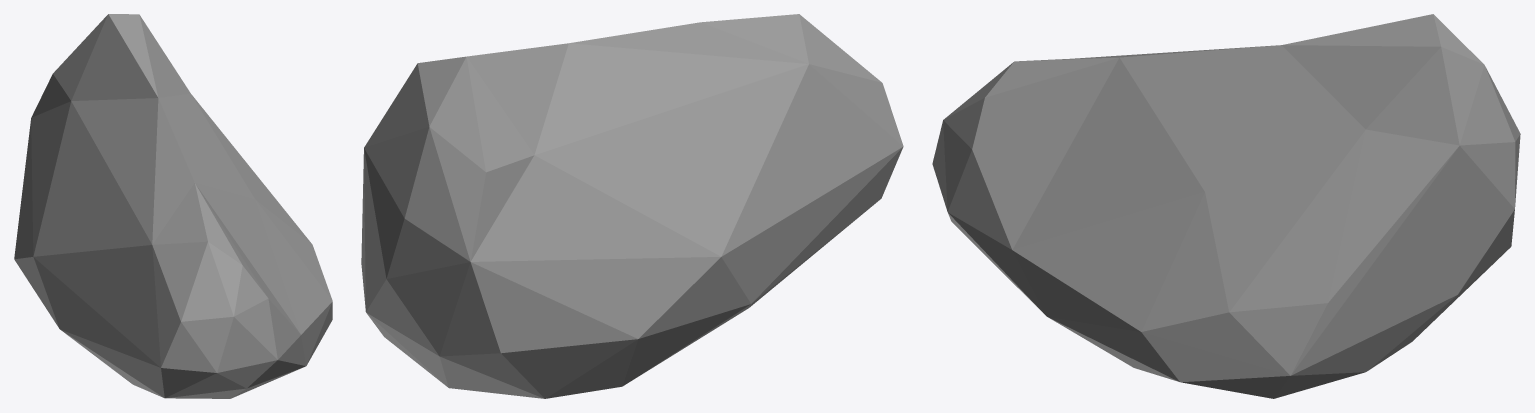
The model's file is Boulder#1.fbx.
3 views of the same model, side by side, from view 1: azimuth 30°, elevation 25°; view 2: azimuth 150°, elevation 25°; view 3: azimuth 270°, elevation 25° (orthographic). The views are drawn at different scales.
Visible parts, largest first — view 1: Boulder#1; view 2: Boulder#1; view 3: Boulder#1.
Boxes of the visible parts, bbox=[...] form: Boulder#1: bbox=[14, 14, 332, 398]; Boulder#1: bbox=[361, 14, 903, 398]; Boulder#1: bbox=[932, 14, 1520, 398].
Size of the model in its own units: 1544 by 1438 by 2356.
